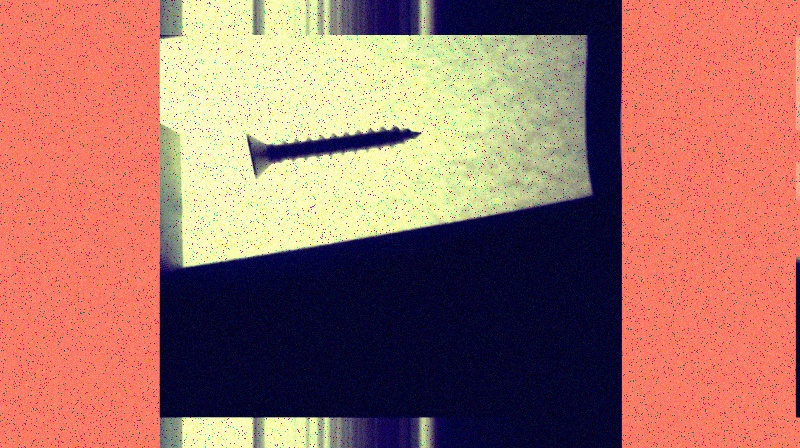S001: (242, 120, 422, 183)
